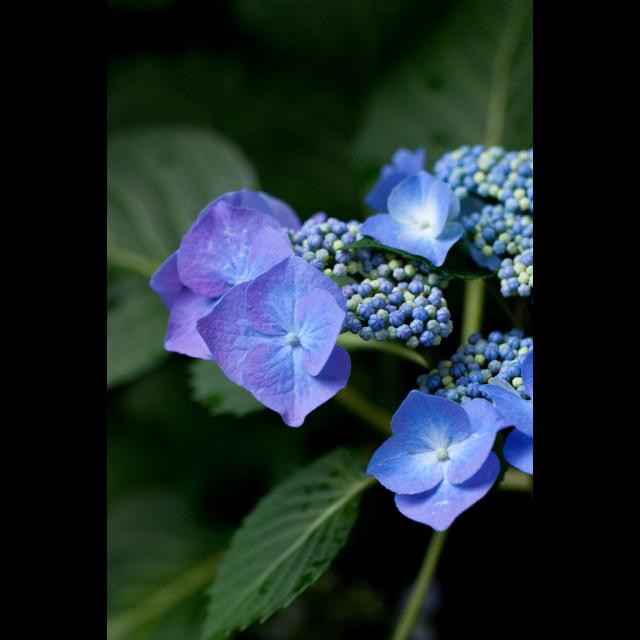Flower: (140, 190, 362, 428), (374, 389, 511, 536), (345, 168, 471, 272), (479, 350, 533, 472), (362, 144, 428, 218)
